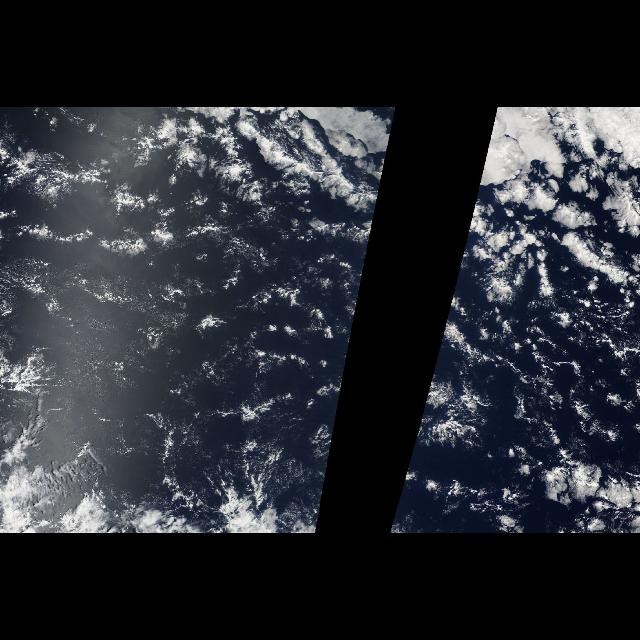Flower: (396, 284, 640, 534), (493, 170, 639, 278)
